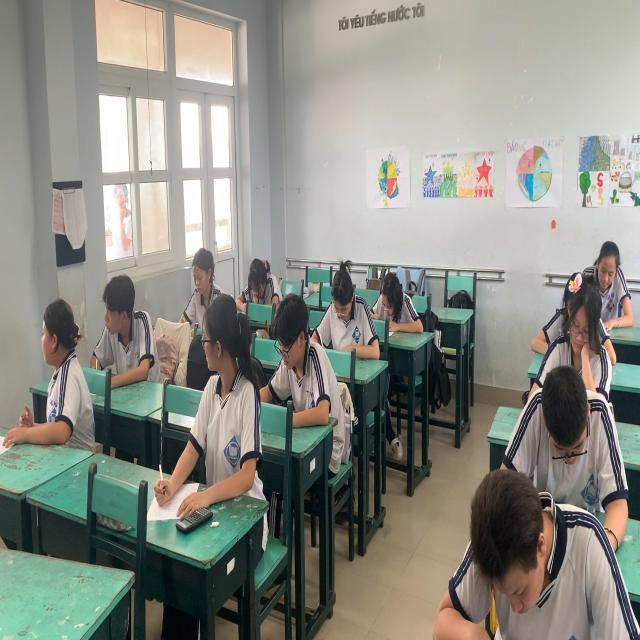cheating: (187, 292, 263, 512), (26, 292, 96, 458)
not_cheating: (446, 453, 610, 633), (523, 359, 609, 491), (267, 288, 335, 428), (99, 274, 162, 395), (323, 251, 370, 372), (554, 276, 603, 376), (374, 256, 422, 348), (584, 234, 628, 324), (184, 243, 217, 326), (244, 246, 278, 315)
